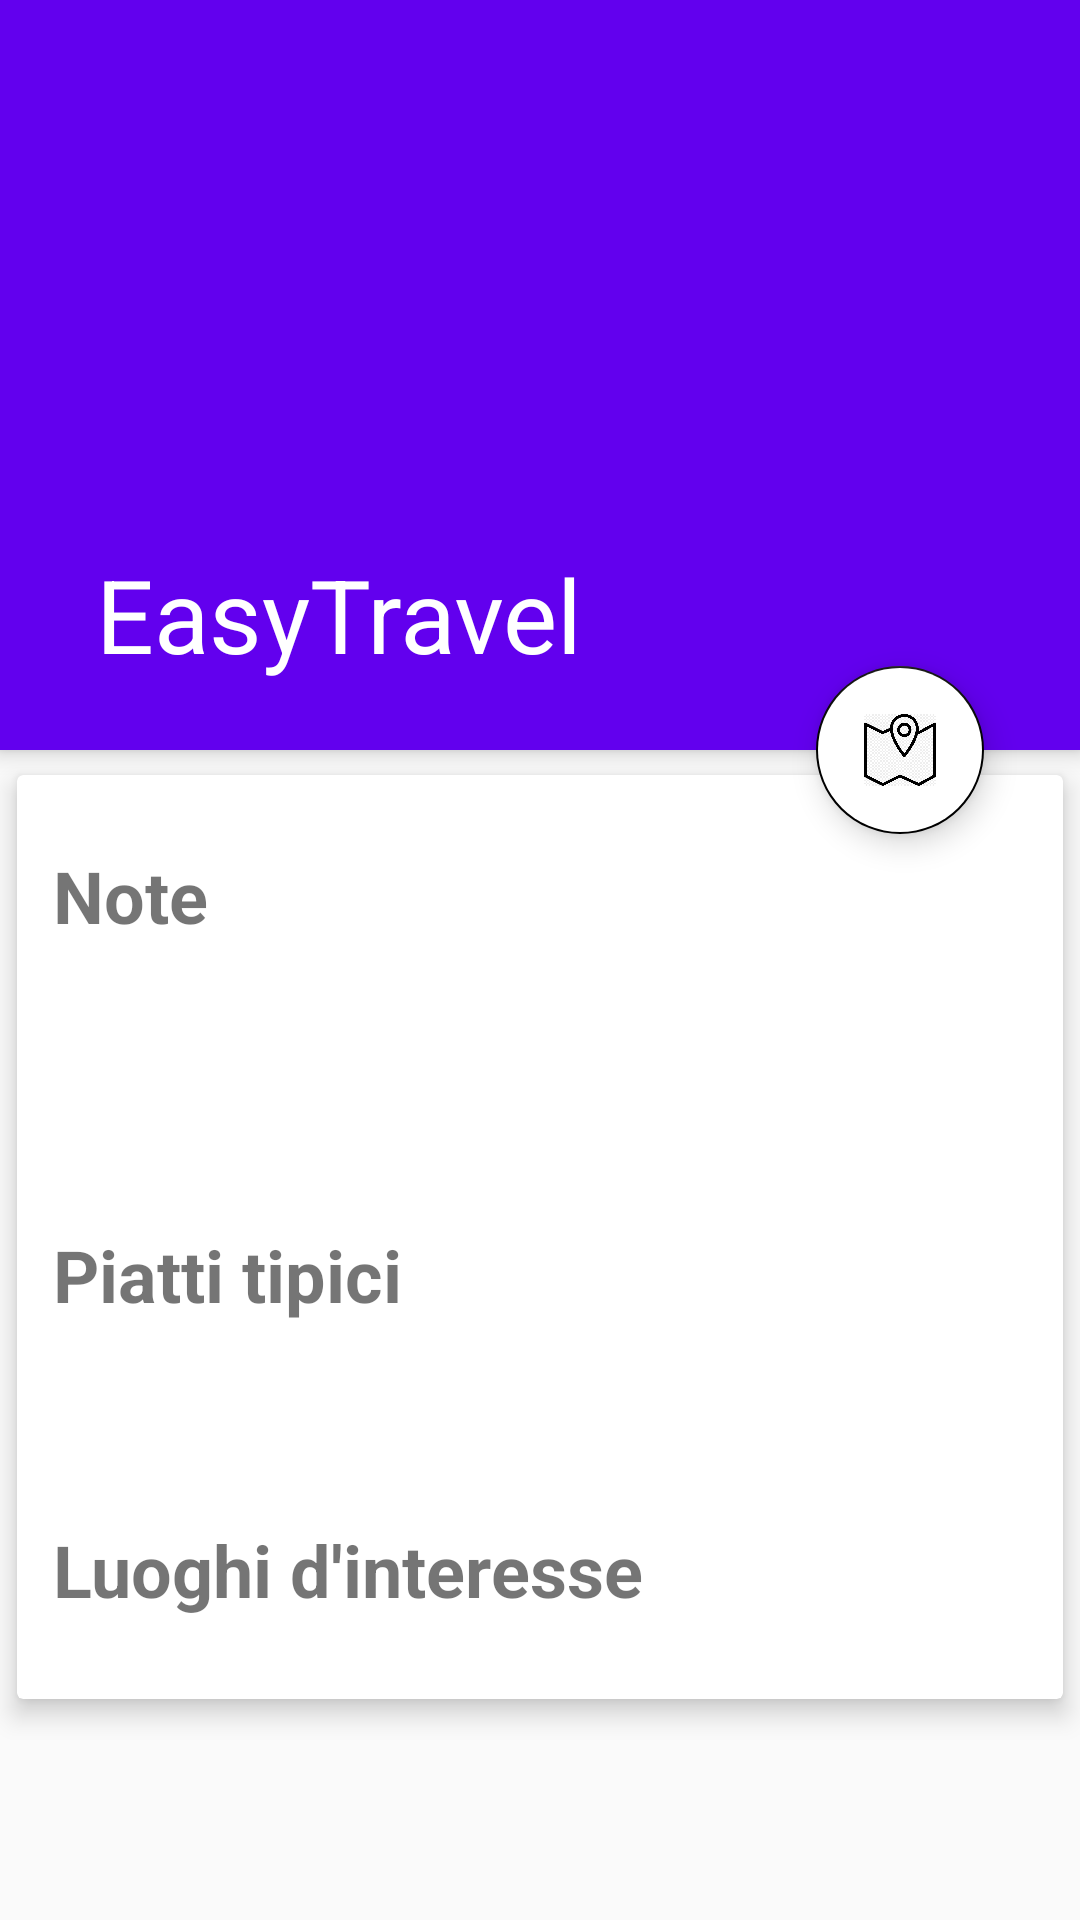

Screen size 1080w x 1920h. Icon name, then its center in pixels as [x,y]:
mappa: [900,750]
